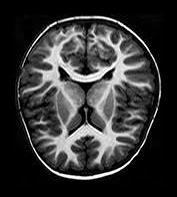Normal_Brain: (4, 3, 177, 197)
